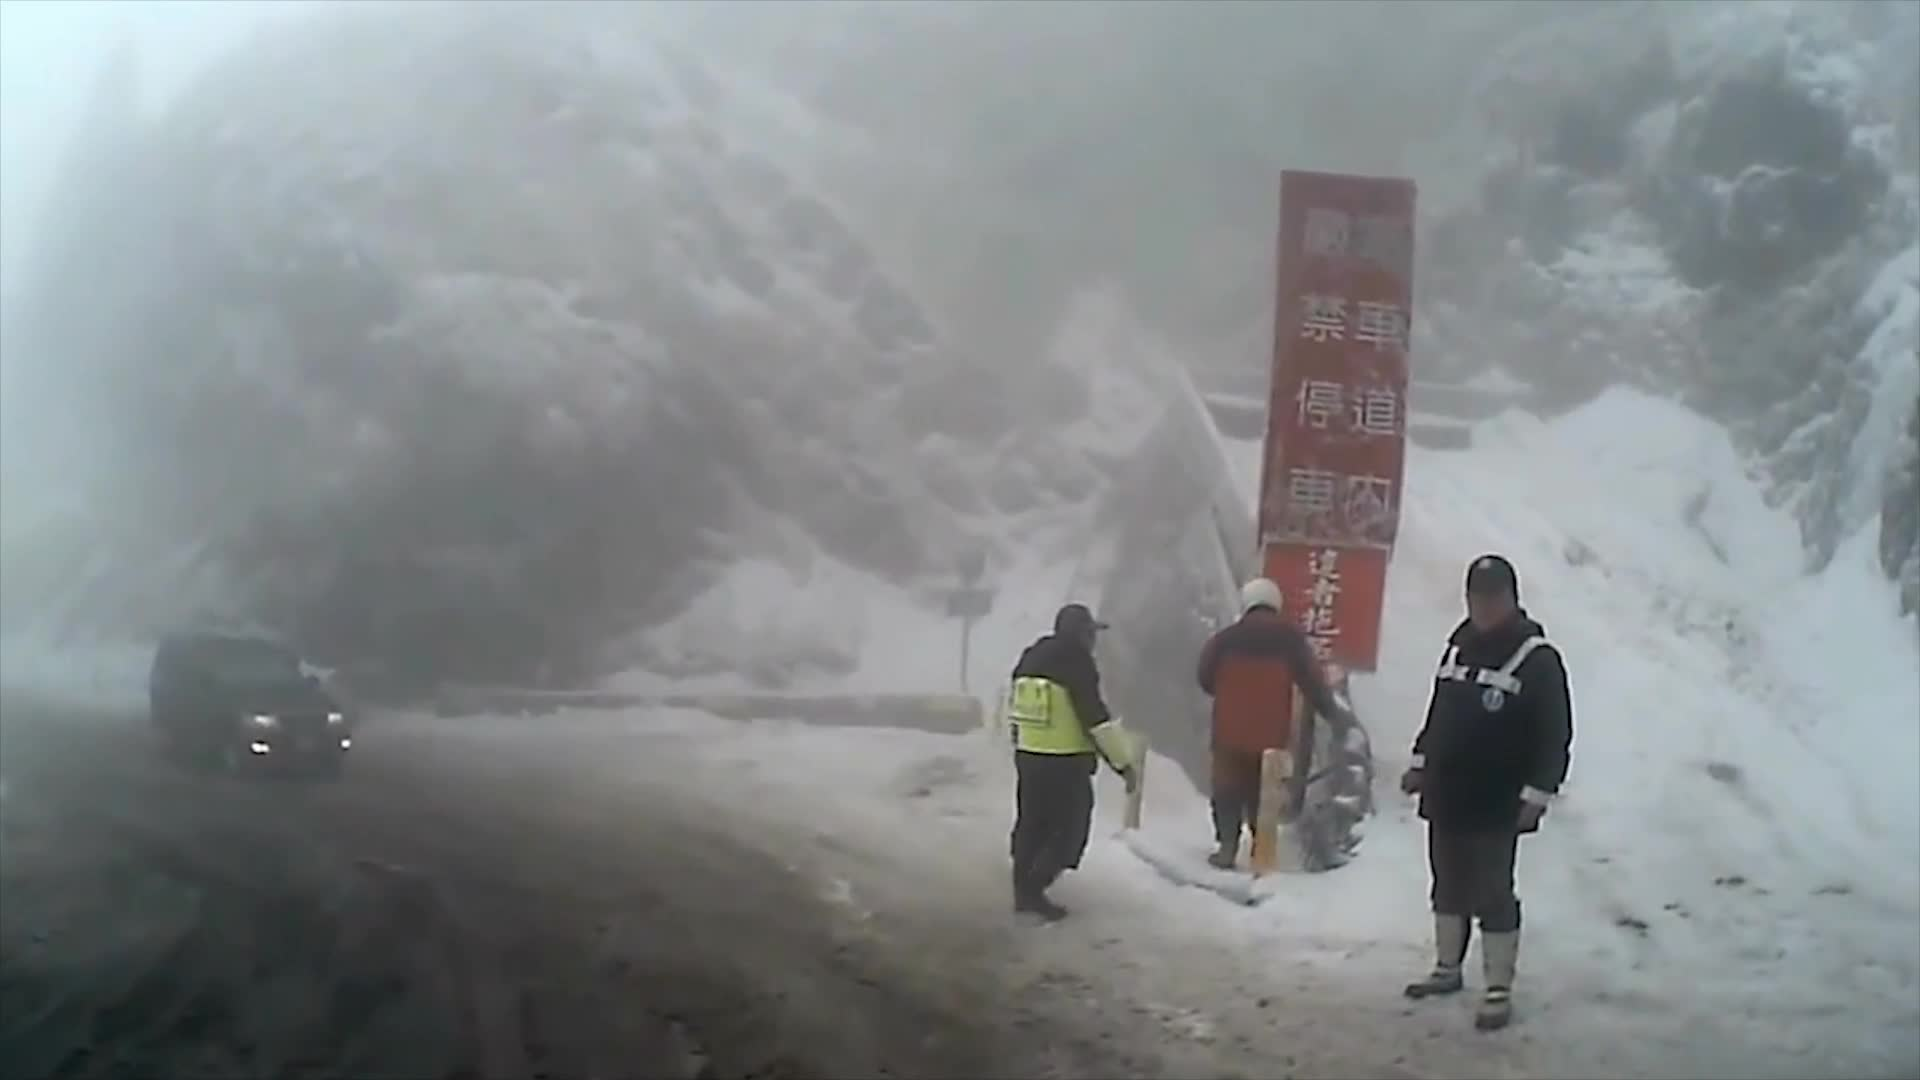pedestrian: (1398, 554, 1576, 1031), (1199, 583, 1350, 871), (991, 614, 1115, 927)
vehicle: (143, 635, 349, 786)
